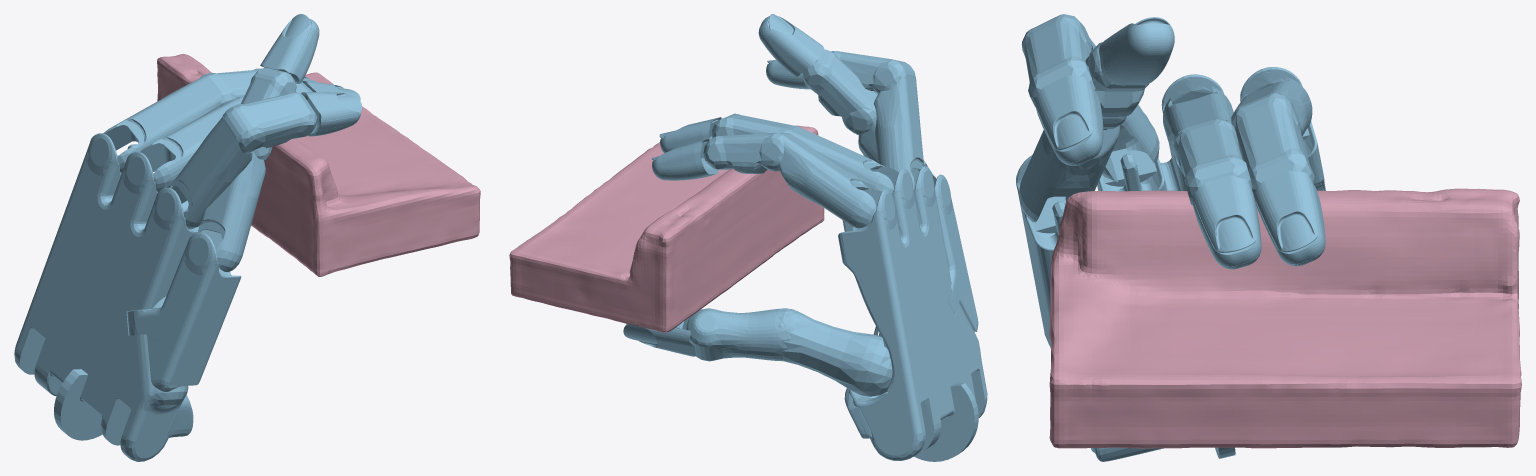
3 views of the same model, side by side, from view 1: azimuth 30°, elevation 25°; view 2: azimuth 150°, elevation 25°; view 3: azimuth 270°, elevation 25° (orthographic). The views are drawn at different scales.
Visible parts, largest first — view 1: hand_isaac_q, world; view 2: hand_isaac_q, world; view 3: world, hand_isaac_q.
Part boxes in pixels (x1,y1,x2,y2): hand_isaac_q: [14, 14, 362, 461]; world: [157, 54, 480, 276]; hand_isaac_q: [623, 14, 987, 461]; world: [509, 125, 824, 332]; world: [1049, 188, 1521, 448]; hand_isaac_q: [1016, 14, 1325, 461].
Bounding box in the file's own units: 0.1736 × 0.1753 × 0.1417.
